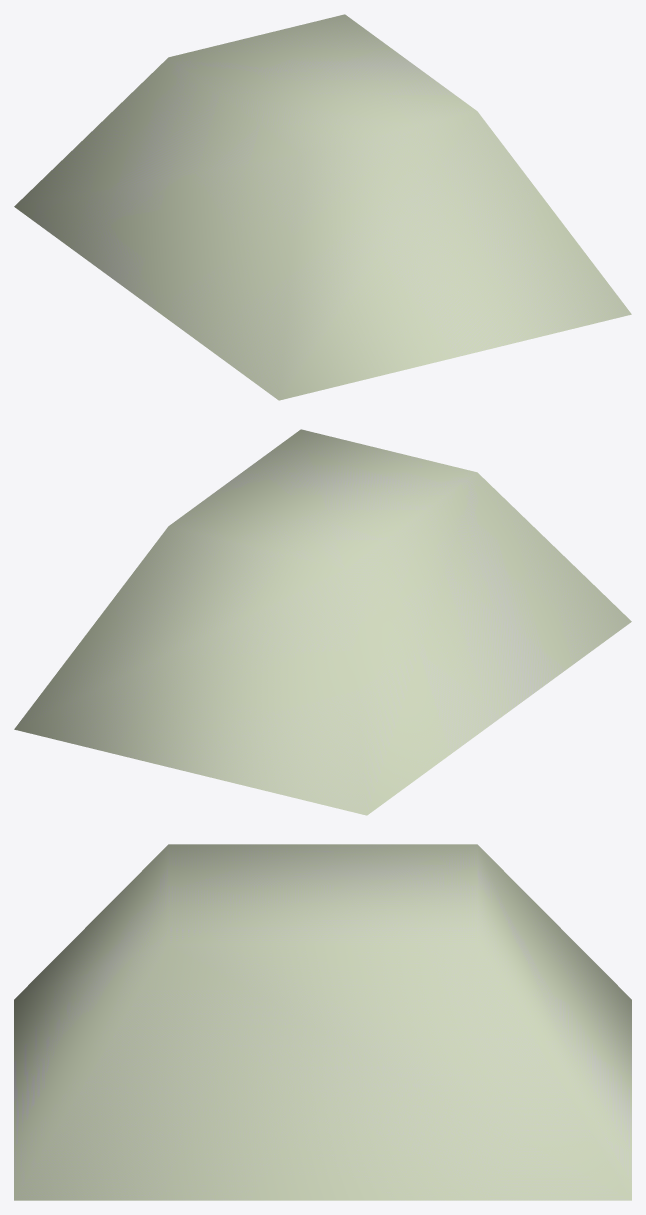
Rendered from original-56.obj.
The picture shows the model from 3 angles, top to bottom: view 1: azimuth 30°, elevation 25°; view 2: azimuth 150°, elevation 25°; view 3: azimuth 270°, elevation 25°; orthographic projection. The views are drawn at different scales.
Parts seen in each view (by area): view 1: Component_5_51/Component_5/mesh4/mesh4-geometry#mesh4-geometry; view 2: Component_5_51/Component_5/mesh4/mesh4-geometry#mesh4-geometry; view 3: Component_5_51/Component_5/mesh4/mesh4-geometry#mesh4-geometry.
Part boxes in pixels (box(x1,y1,x2,y2)): Component_5_51/Component_5/mesh4/mesh4-geometry#mesh4-geometry: box(14, 14, 631, 400); Component_5_51/Component_5/mesh4/mesh4-geometry#mesh4-geometry: box(14, 429, 631, 815); Component_5_51/Component_5/mesh4/mesh4-geometry#mesh4-geometry: box(14, 844, 631, 1200).
Bounding box in the file's own units: 0.0787 × 0.0376 × 0.1023.
